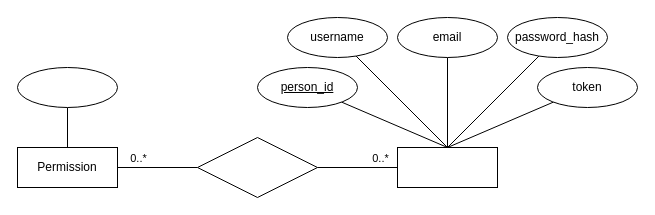
This 655x215 diagram has some shape labels left out. The shapes that lost their labels are listed below. From the top down, each one's centre as x and y in pixels, then its label:
At (67,87): "name".
At (257,167): "has".
At (447,167): "Person".
